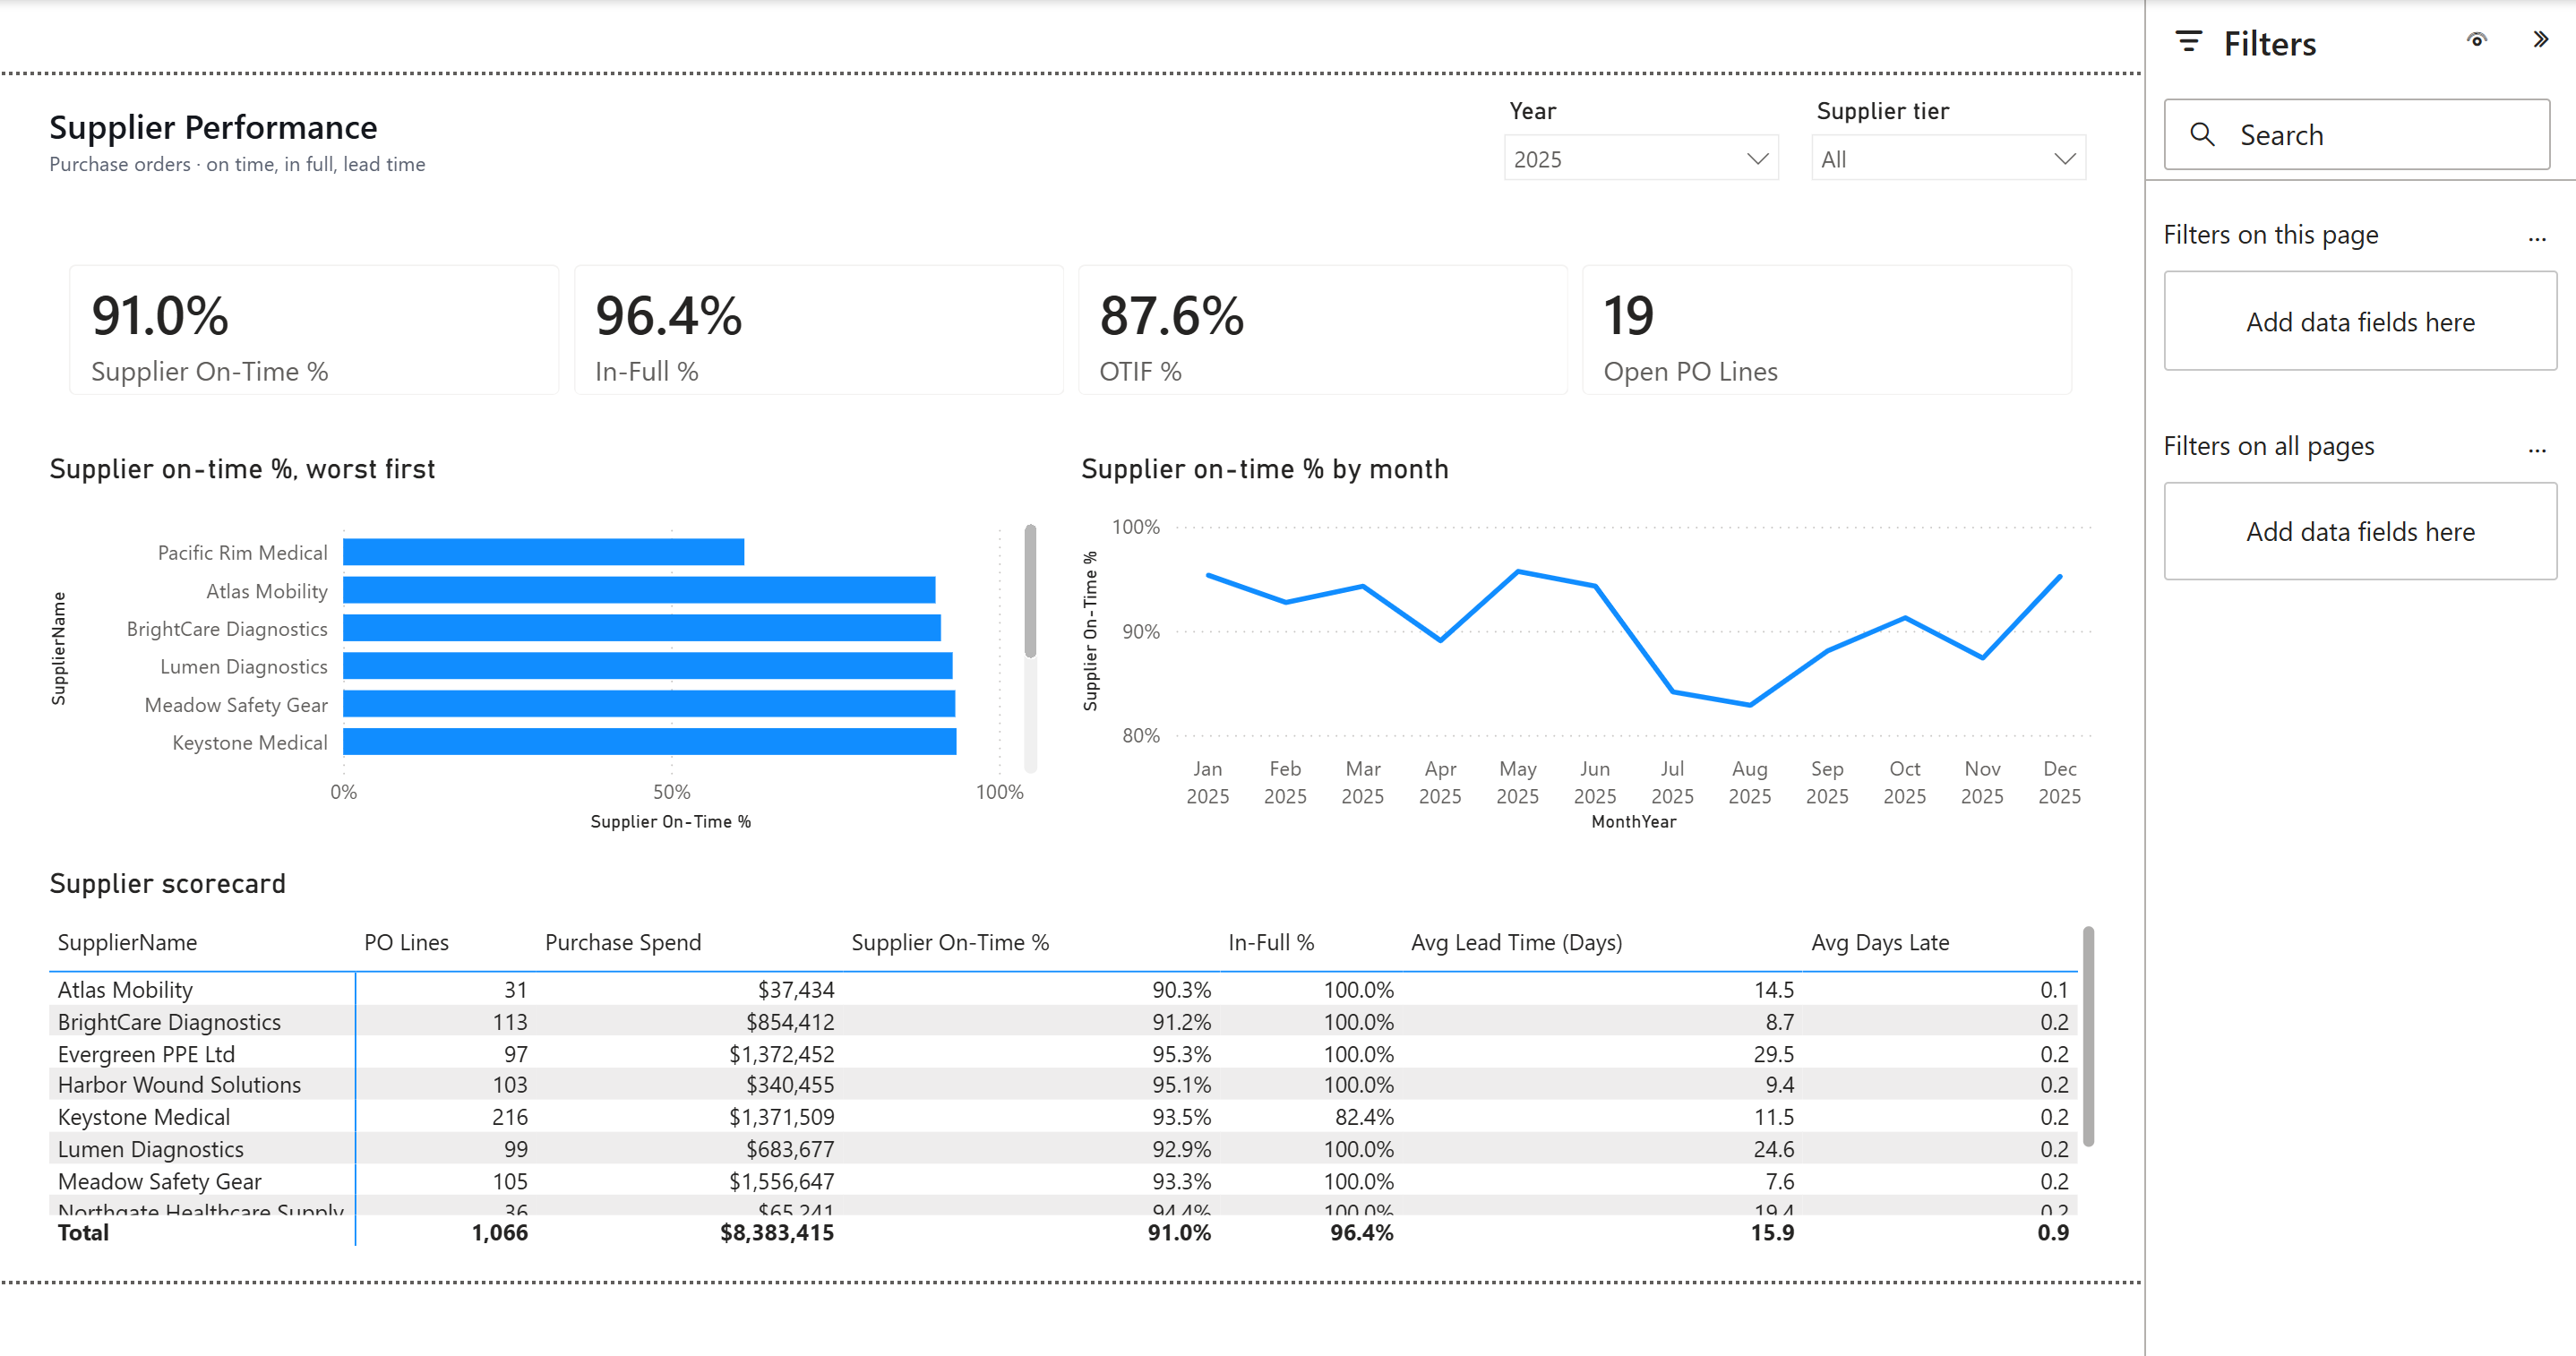

This screenshot's page, from the dashboard's own definition file:
{"tool":"powerbi","page":{"name":"Supplier Performance","canvas":[1280,720],"ordinal":1},"visuals":[{"type":"textbox","box":[24,12,640,64],"z":0},{"type":"slicer","fields":{"Values":["Dim_Date.Year"]},"box":[888,8,184,80],"z":1000},{"type":"slicer","fields":{"Values":["Dim_Supplier.SupplierTier"]},"box":[1072,8,184,80],"z":2000},{"type":"cardVisual","fields":{"Data":["_Measures.Supplier On-Time %","_Measures.In-Full %","_Measures.OTIF %","_Measures.Open PO Lines"]},"box":[24,96,1232,112],"z":3000},{"type":"clusteredBarChart","title":"Supplier on-time %, worst first","fields":{"Category":["Dim_Supplier.SupplierName"],"Y":["_Measures.Supplier On-Time %"]},"box":[24,224,600,232],"z":4000},{"type":"lineChart","title":"Supplier on-time % by month","fields":{"Category":["Dim_Date.MonthYear"],"Y":["_Measures.Supplier On-Time %"]},"box":[640,224,616,232],"z":5000},{"type":"pivotTable","title":"Supplier scorecard","fields":{"Rows":["Dim_Supplier.SupplierName"],"Values":["_Measures.PO Lines","_Measures.Purchase Spend","_Measures.Supplier On-Time %","_Measures.In-Full %","_Measures.Avg Lead Time (Days)","_Measures.Avg Days Late"]},"box":[24,472,1232,232],"z":6000}]}

Visuals, with their boxes on the page's 1280x720 design canvas (x1, y1, x2, y2). These are canvas units, not pixel positions in the 2576x1356 screenshot, which may show the page scaled, cropped or inside an application window:
textbox: (24,12,664,76)
slicer - Dim_Date.Year: (888,8,1072,88)
slicer - Dim_Supplier.SupplierTier: (1072,8,1256,88)
cardVisual - _Measures.Supplier On-Time % x _Measures.In-Full %: (24,96,1256,208)
"Supplier on-time %, worst first" clusteredBarChart: (24,224,624,456)
"Supplier on-time % by month" lineChart: (640,224,1256,456)
"Supplier scorecard" pivotTable: (24,472,1256,704)
